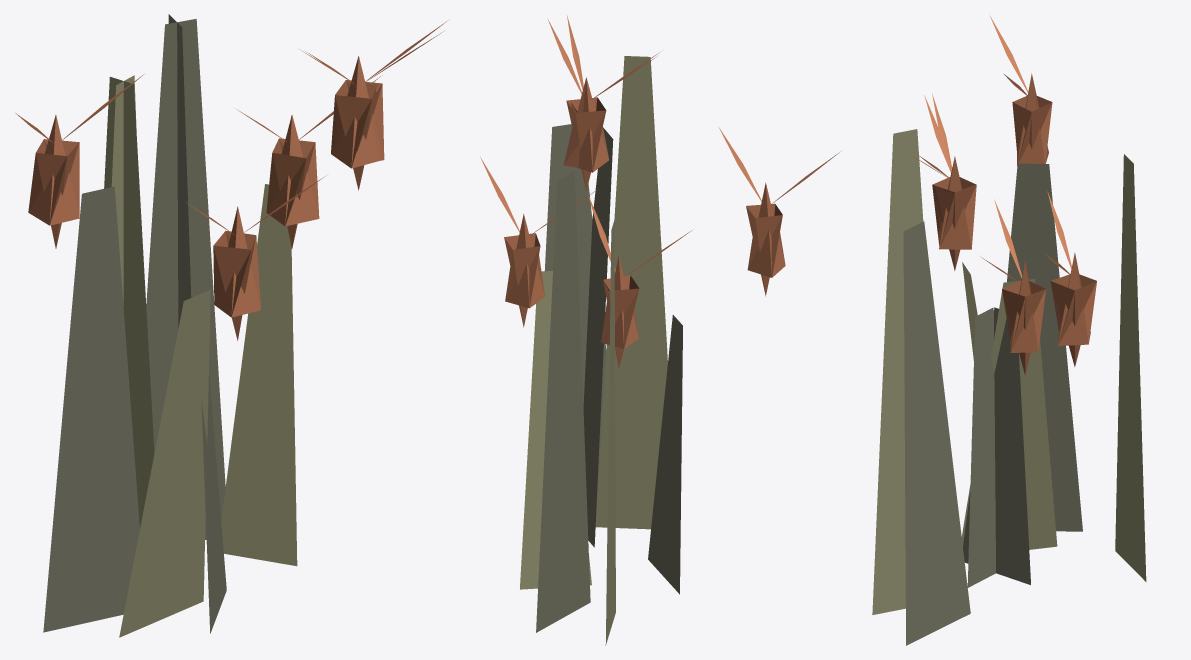
Rendered from nong.dao@fruiting__winter.glb.
The picture shows the model from 3 angles, left to right: view 1: azimuth 30°, elevation 25°; view 2: azimuth 150°, elevation 25°; view 3: azimuth 270°, elevation 25°; orthographic projection. The views are drawn at different scales.
Visible parts, largest first — view 1: nong.dao@fruiting__winter; view 2: nong.dao@fruiting__winter; view 3: nong.dao@fruiting__winter.
Part boxes in pixels (x1,y1,x2,y2): nong.dao@fruiting__winter: (15, 14, 449, 637); nong.dao@fruiting__winter: (480, 15, 840, 645); nong.dao@fruiting__winter: (872, 14, 1146, 645).
Bounding box in the file's own units: 0.7703 × 1.07 × 0.5942.
